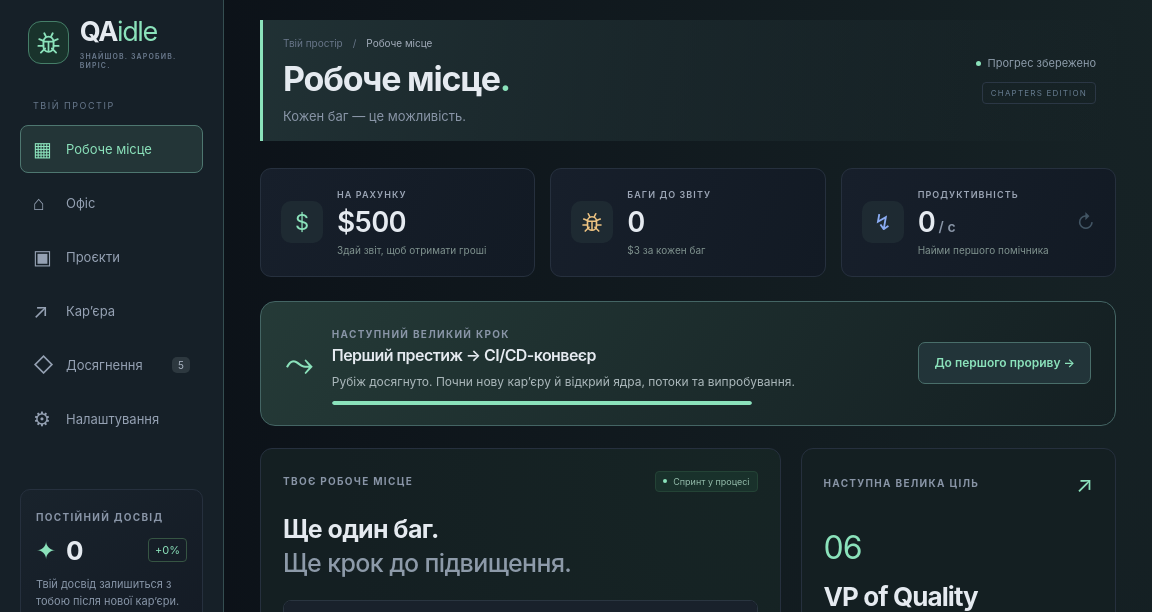
playable career UI › requires confirmation before prestige, preserves badges, and returns to a playable start
Click the button "↗ Кар’єра" at point(112, 311), box x1=20 y1=287 x2=203 y2=335
(page scrolled)
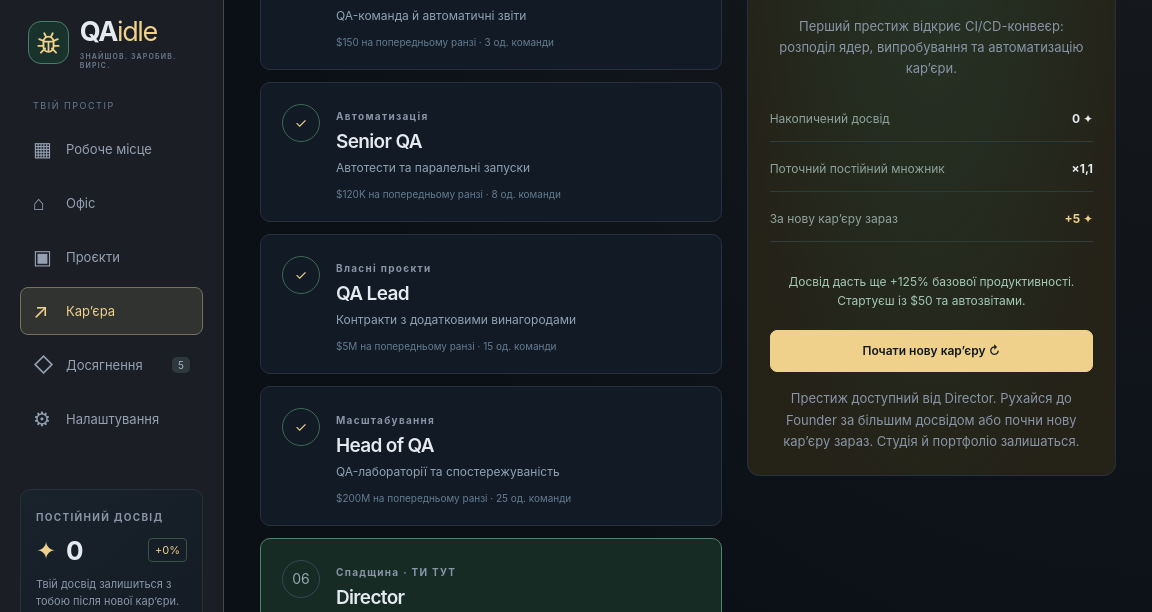
Click the button "Почати нову кар’єру ↻" at point(931, 351), box x1=770 y1=330 x2=1093 y2=372
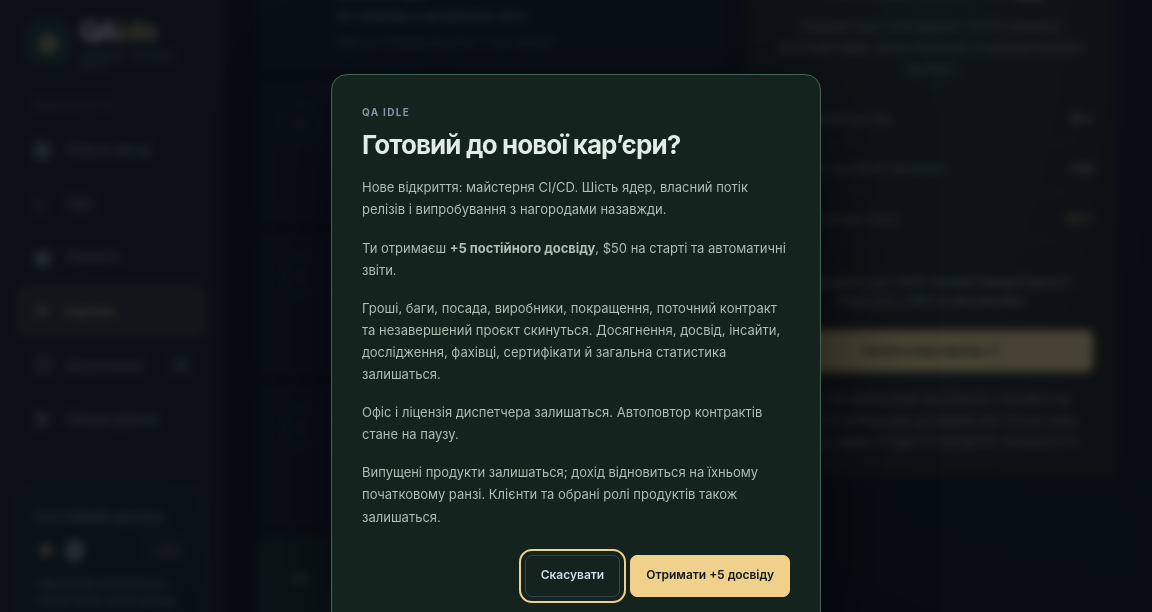
Expected: the dialog shows "незавершений проєкт", x1=362 y1=300 x2=780 y2=382
Click the button "Скасувати" at point(572, 576), box x1=525 y1=555 x2=620 y2=597
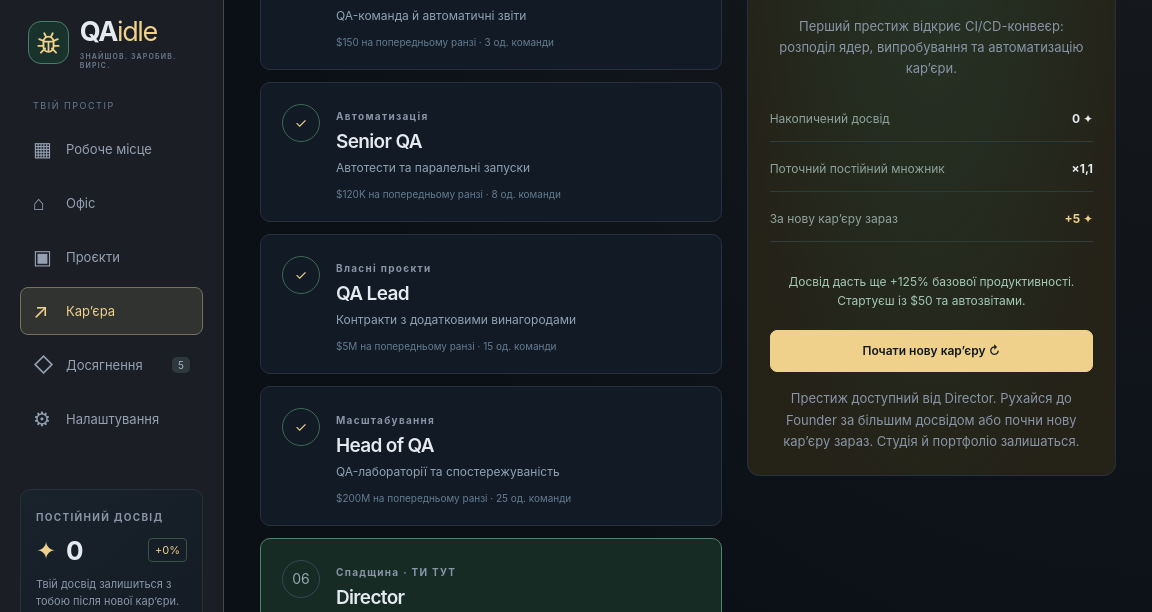
Click the button "Почати нову кар’єру ↻" at point(931, 351), box x1=770 y1=330 x2=1093 y2=372
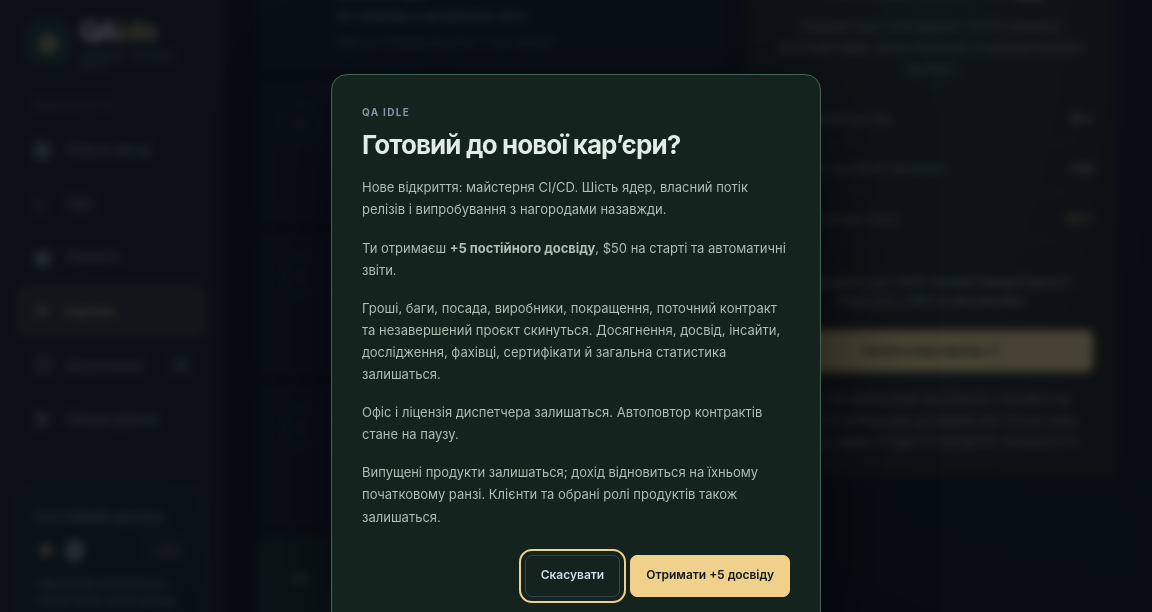
Click the button "Отримати +5 досвіду" at point(710, 576), box x1=630 y1=555 x2=790 y2=597
(page scrolled)
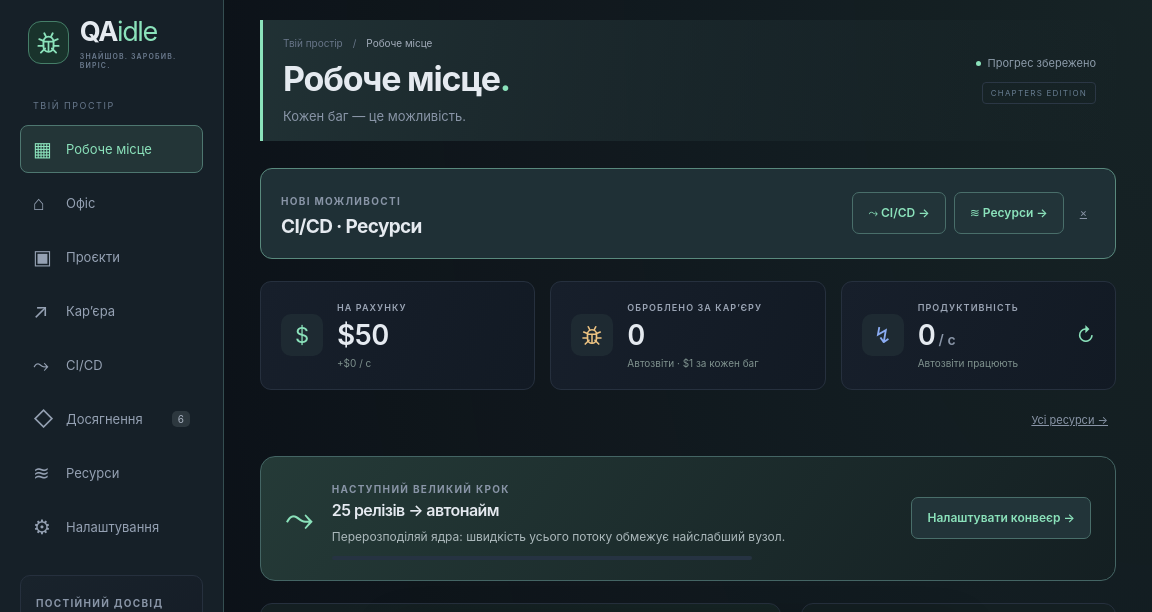
Expected: the text "Автозвіти працюють" is shown, x1=918 y1=357 x2=1019 y2=369
Expected: the text with test id "money" reads "$50", x1=337 y1=318 x2=388 y2=352
